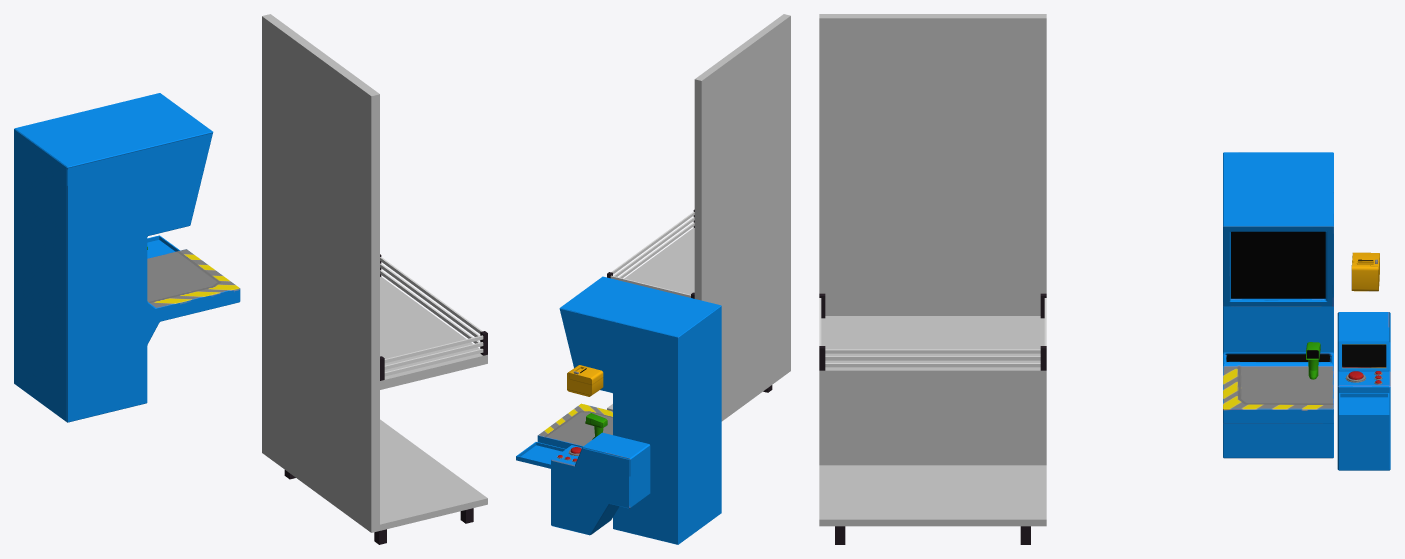
File: mail_1 (3) - Copy.fbx
The picture shows the model from 3 angles, left to right: view 1: azimuth 30°, elevation 25°; view 2: azimuth 150°, elevation 25°; view 3: azimuth 270°, elevation 25°; orthographic projection. The views are drawn at different scales.
Parts seen in each view (by area): view 1: Cube.042, Cube.002, Cube.007, Cube.039; view 2: Cube.042, Cube.002, Cube.004, Cube.007, Cube.039, Cube.006; view 3: Cube.042, Cube.002, Cube.007, Cube.004, Cube.039, Cube.006.
Boxes of the visible parts, <box> form: Cube.042: <box>262,14,487,544</box>; Cube.002: <box>14,93,240,422</box>; Cube.007: <box>380,276,487,389</box>; Cube.039: <box>380,257,483,376</box>; Cube.042: <box>607,14,790,421</box>; Cube.002: <box>537,276,721,544</box>; Cube.004: <box>516,432,650,535</box>; Cube.007: <box>624,228,694,294</box>; Cube.039: <box>610,211,694,297</box>; Cube.006: <box>567,365,603,396</box>; Cube.042: <box>819,14,1046,544</box>; Cube.002: <box>1223,152,1333,458</box>; Cube.007: <box>819,316,1046,380</box>; Cube.004: <box>1337,312,1390,470</box>; Cube.039: <box>819,298,1046,367</box>; Cube.006: <box>1351,252,1379,291</box>.
Size of the model in its own units: 238 by 461 by 502.
